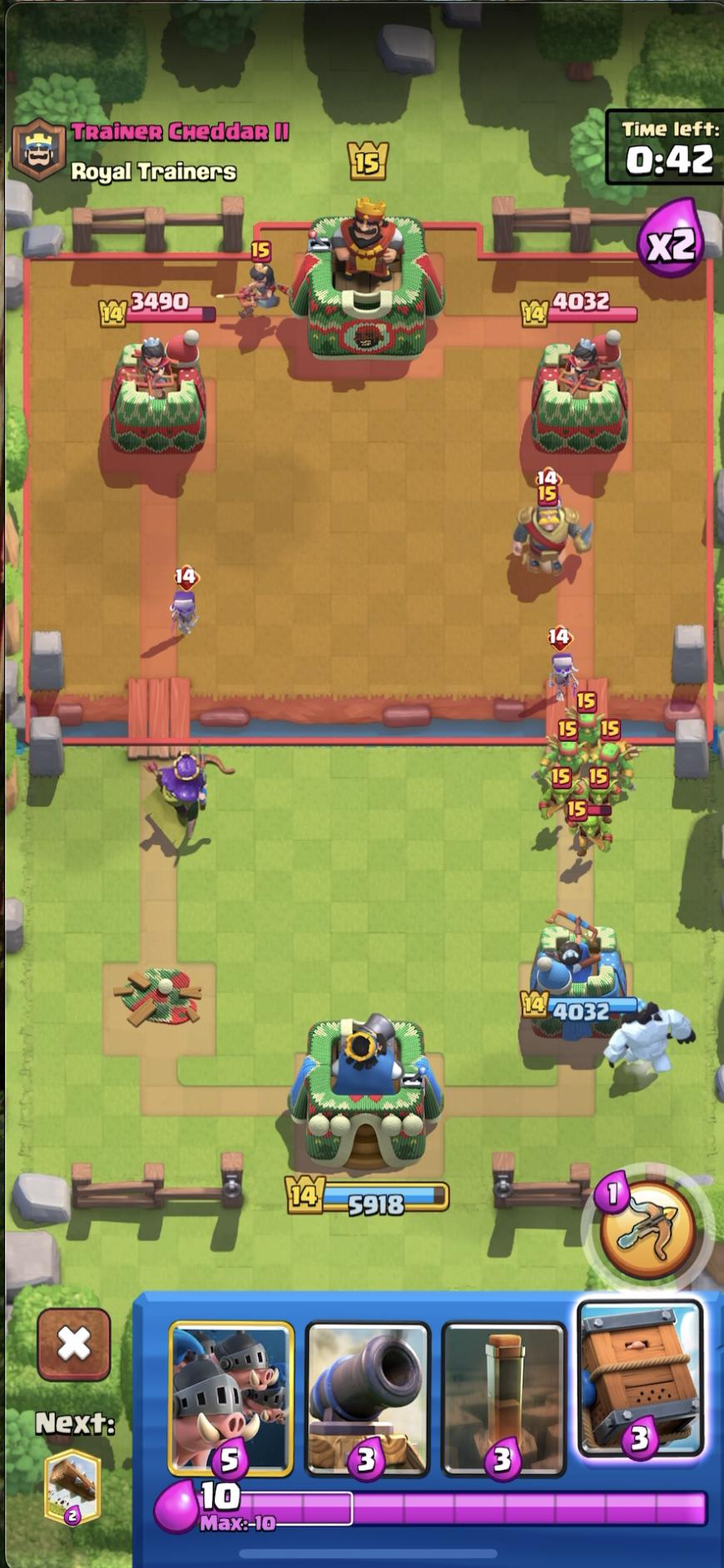card_cannon: (302, 1317, 430, 1482)
card_earthquake: (439, 1316, 567, 1486)
card_log: (39, 1446, 108, 1529)
card_royalhogs: (166, 1318, 293, 1483)
